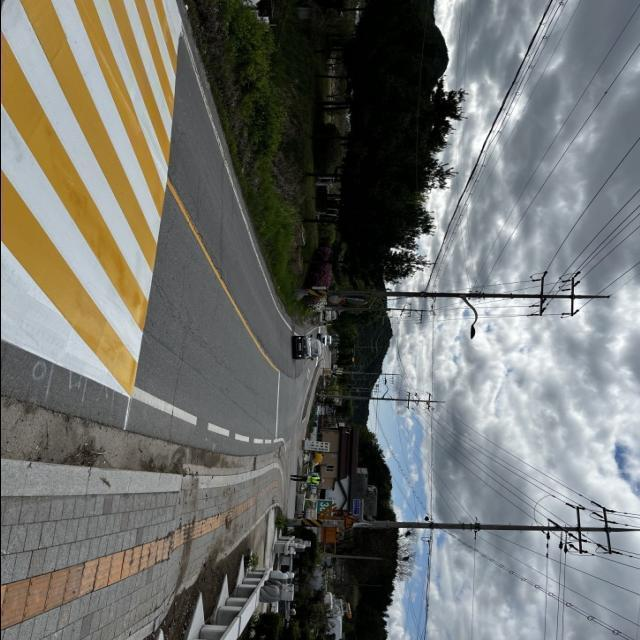speedbreaker: (0, 0, 185, 414)
